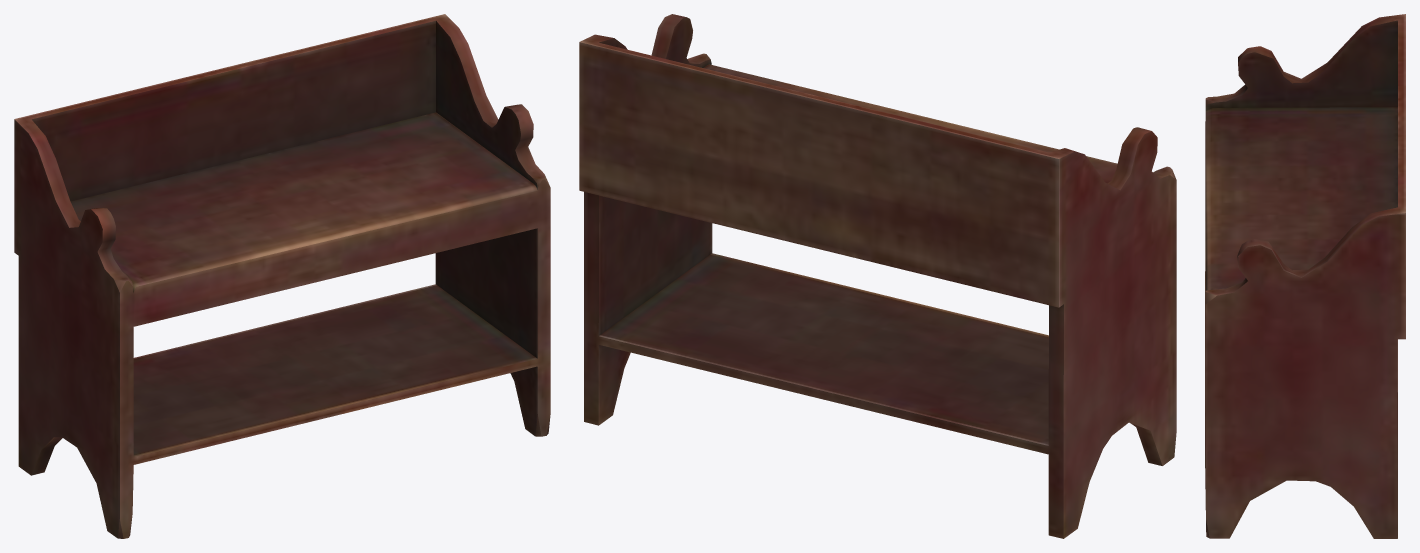
Rendered from painted_bench_low.glb.
The picture shows the model from 3 angles, left to right: view 1: azimuth 30°, elevation 25°; view 2: azimuth 150°, elevation 25°; view 3: azimuth 270°, elevation 25°; orthographic projection. The views are drawn at different scales.
Parts seen in each view (by area): view 1: painted_wooden_bench; view 2: painted_wooden_bench; view 3: painted_wooden_bench.
Part boxes in pixels (x1,y1,x2,y2): painted_wooden_bench: (14, 14, 550, 538); painted_wooden_bench: (579, 14, 1176, 538); painted_wooden_bench: (1205, 14, 1405, 538).
Bounding box in the file's own units: 1.16 × 0.8893 × 0.4965.
1 material, 1 textured.
